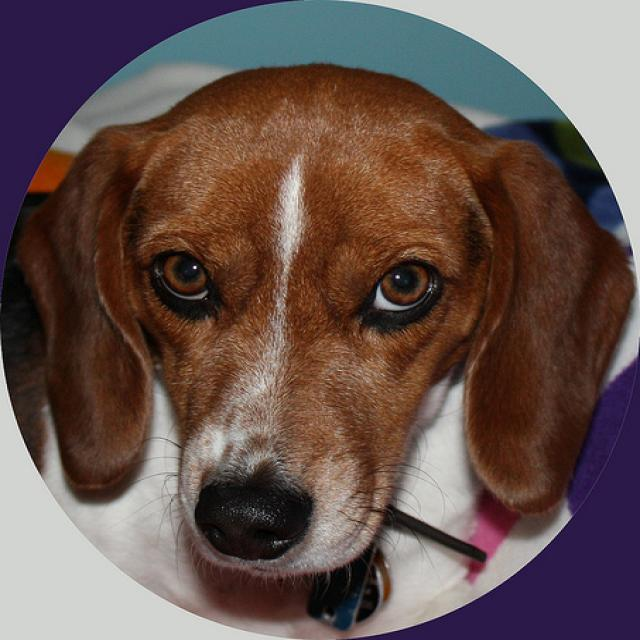dog-beagle: (1, 49, 637, 637)
